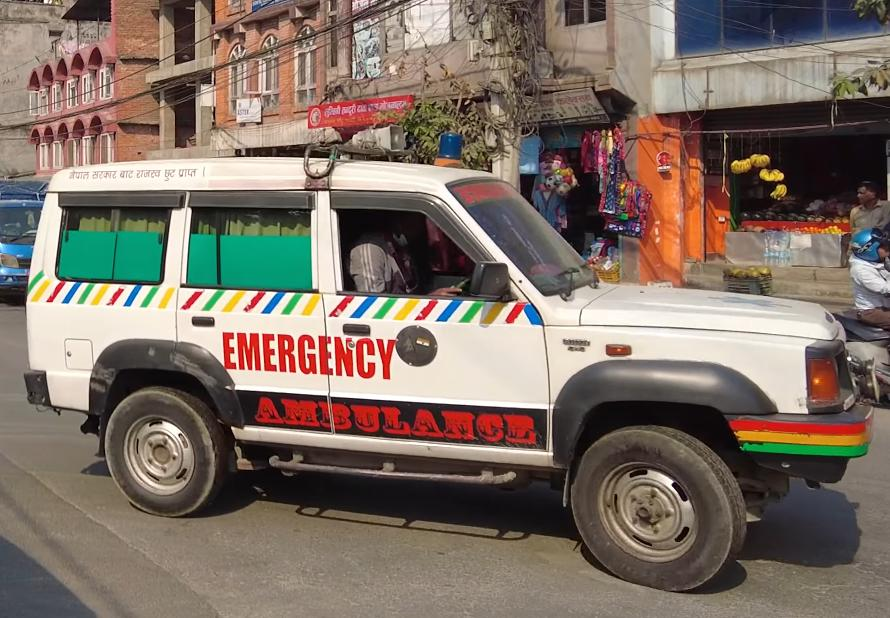ambulance: (7, 127, 872, 595)
